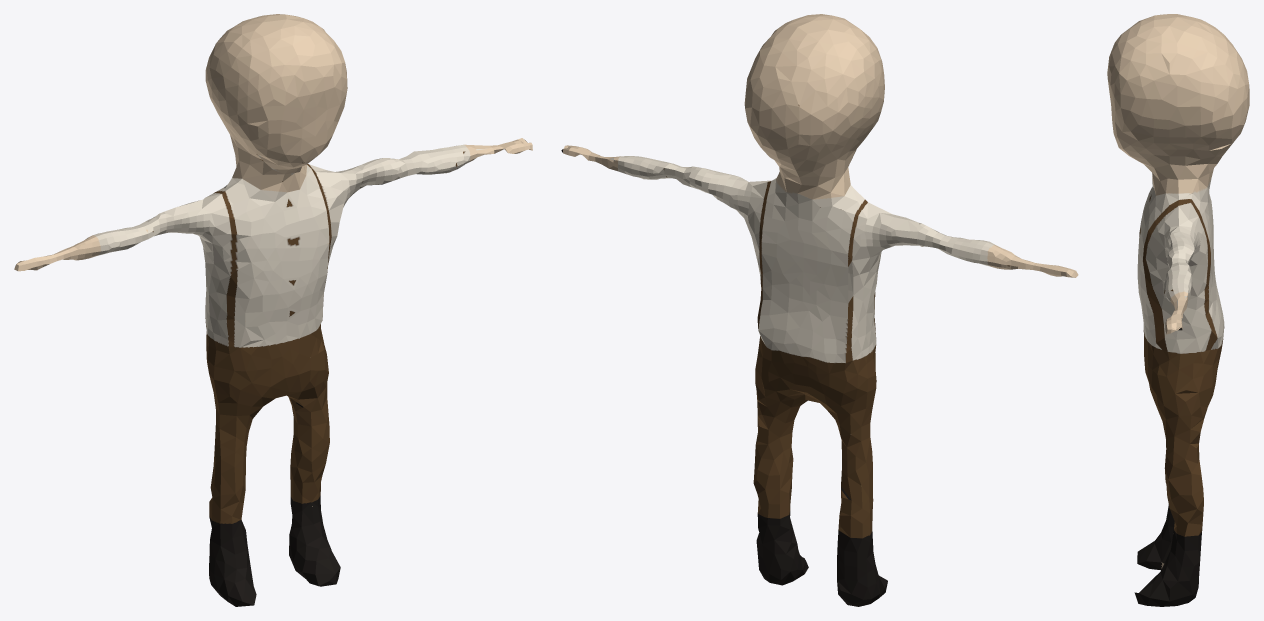
File: boy_0.fbx
The picture shows the model from 3 angles, left to right: view 1: azimuth 30°, elevation 25°; view 2: azimuth 150°, elevation 25°; view 3: azimuth 270°, elevation 25°; orthographic projection.
Parts seen in each view (by area): view 1: boy_; view 2: boy_; view 3: boy_.
Part boxes in pixels (x1=…): boy_: x1=14, y1=14, x2=532, y2=606; boy_: x1=561, y1=14, x2=1078, y2=606; boy_: x1=1107, y1=14, x2=1249, y2=606.
Bounding box in the file's own units: 328 × 346 × 78.8.
1 material, 1 textured.
